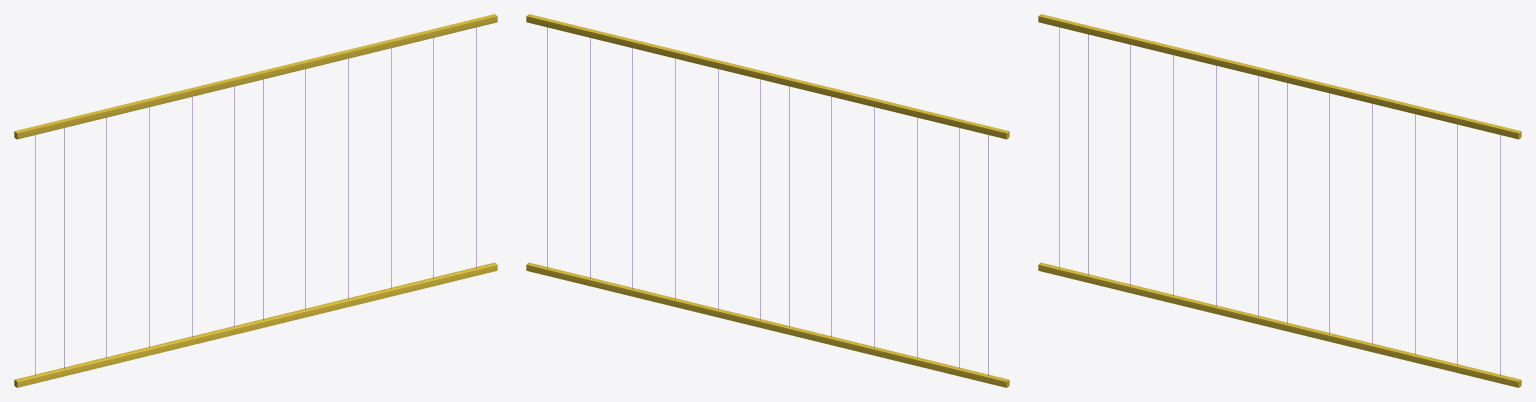
File: SM_LR_Grill.fbx
3 renders of one model, left to right at view 1: azimuth 30°, elevation 25°; view 2: azimuth 150°, elevation 25°; view 3: azimuth 330°, elevation 25°, orthographic.
Parts seen in each view (by area): view 1: SM_LR_Grill; view 2: SM_LR_Grill; view 3: SM_LR_Grill.
Boxes of the visible parts, left/top/right/bottom form: SM_LR_Grill: left=14, top=14, right=497, bottom=387; SM_LR_Grill: left=526, top=14, right=1009, bottom=387; SM_LR_Grill: left=1038, top=14, right=1521, bottom=387.
Bounding box in the file's own units: 238 × 121 × 2.5.
